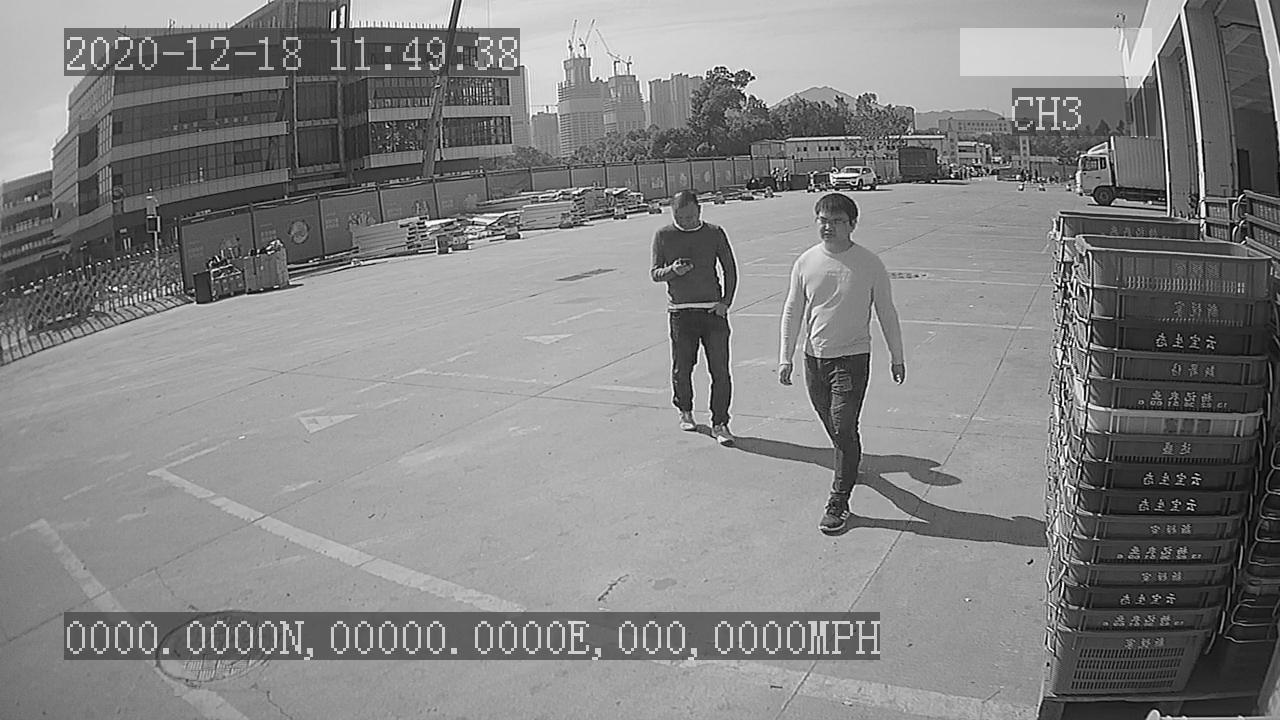person: (774, 190, 911, 540), (649, 188, 745, 451)
